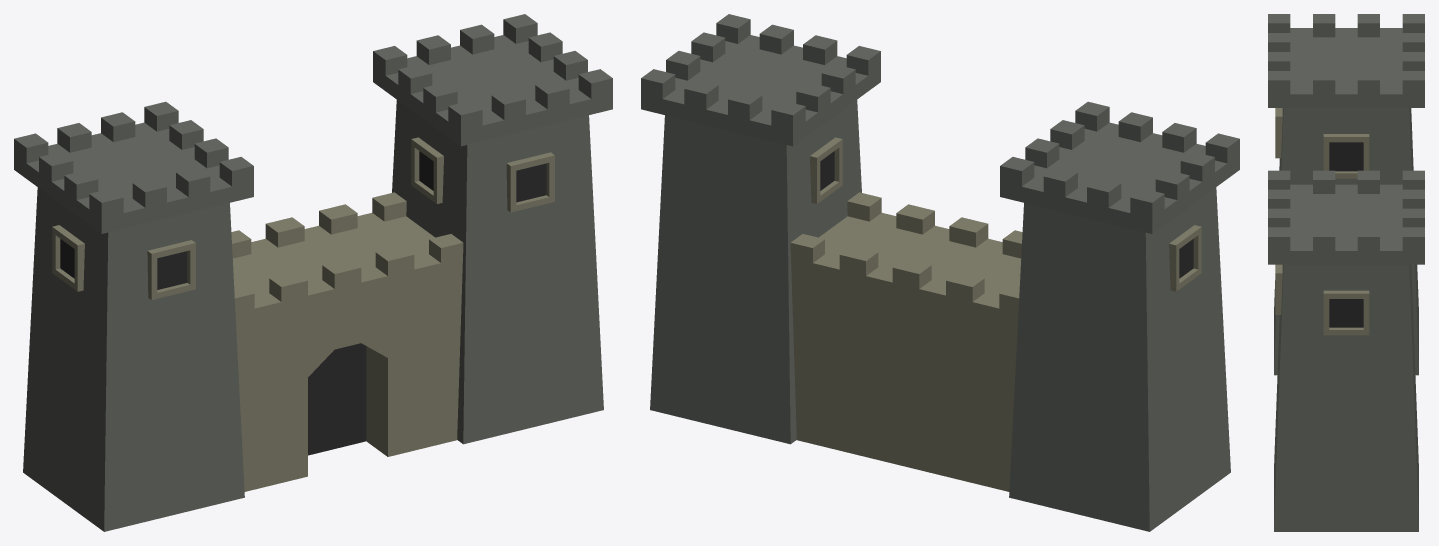
Rendered from Barracks_base_mat.fbx.
The picture shows the model from 3 angles, left to right: view 1: azimuth 30°, elevation 25°; view 2: azimuth 150°, elevation 25°; view 3: azimuth 270°, elevation 25°; orthographic projection. The views are drawn at different scales.
Parts seen in each view (by area): view 1: Barracks_base_mat; view 2: Barracks_base_mat; view 3: Barracks_base_mat.
Part boxes in pixels (box(x1,y1,x2,y2)): Barracks_base_mat: box(14, 14, 612, 531); Barracks_base_mat: box(641, 14, 1239, 531); Barracks_base_mat: box(1268, 14, 1424, 531).
Size of the model in its own units: 754 by 470 by 224.
